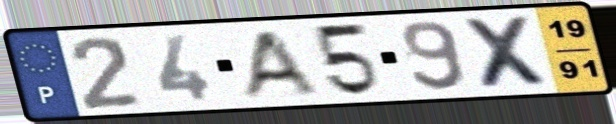2: (67, 33, 147, 112)
4: (155, 32, 216, 103)
5: (305, 21, 382, 98)
9: (398, 19, 468, 93)
A: (237, 27, 322, 102)
X: (457, 14, 559, 91)
